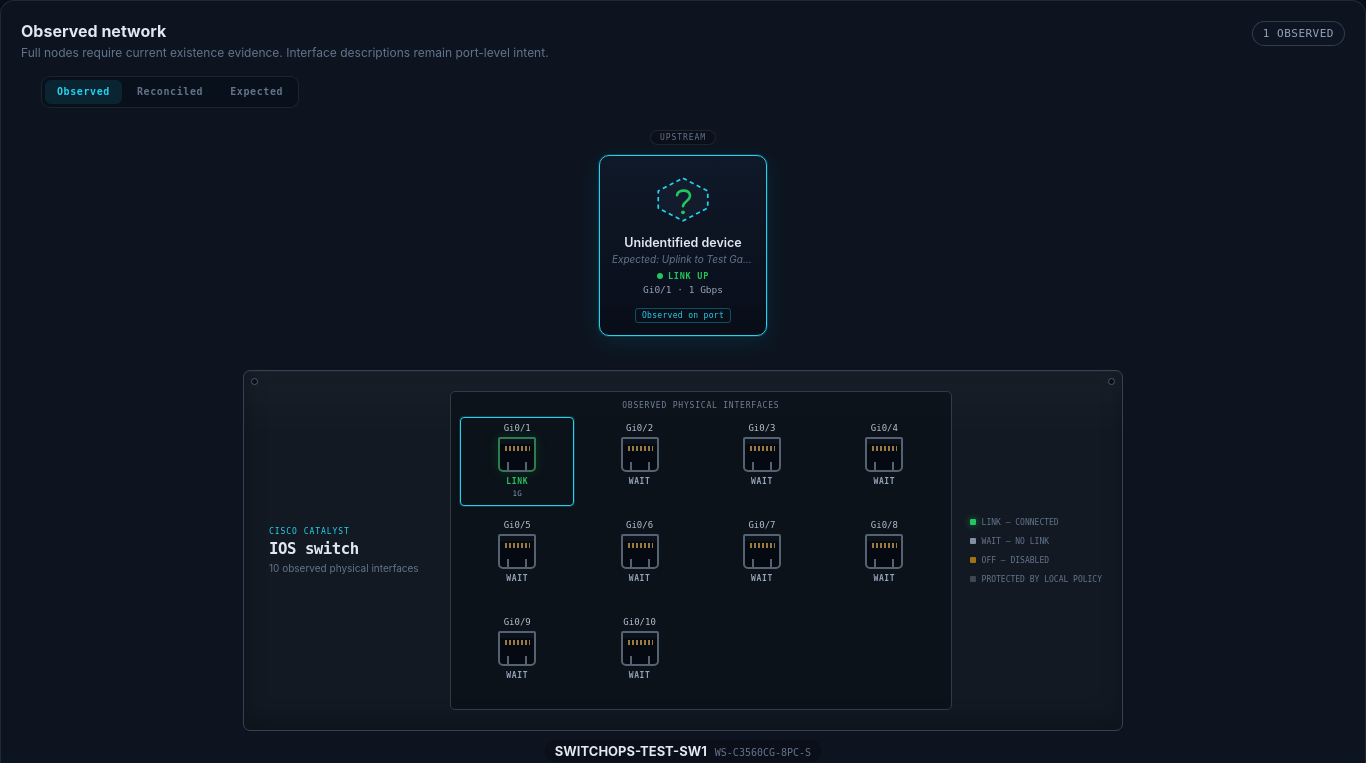
Test: observed versus expected in the map › marks an unconfirmed endpoint with the reconciliation status
The width and height of the screenshot is (1366, 763).
Click the tab "Reconciled" at (170, 92), box [125,80,215,104]
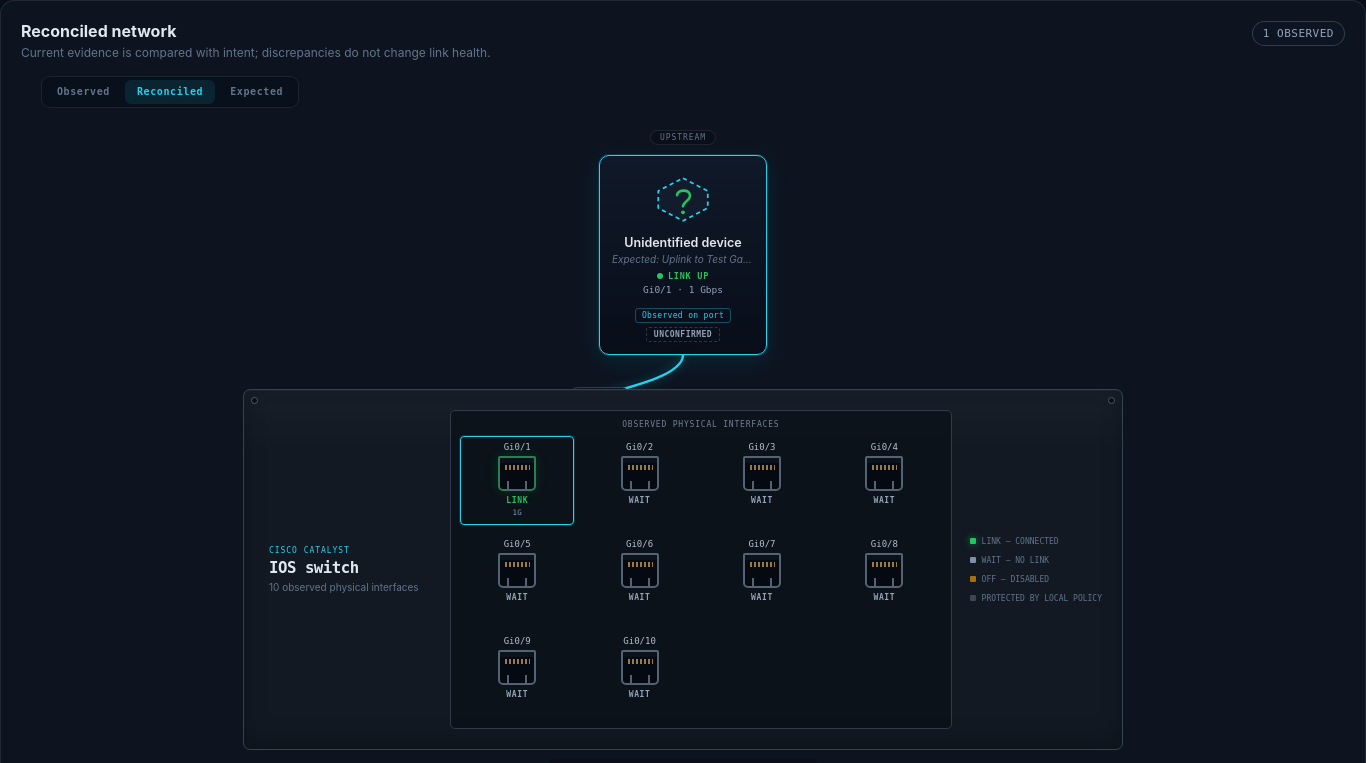
Result: the text "Unconfirmed" is shown at [646,327,720,342]
